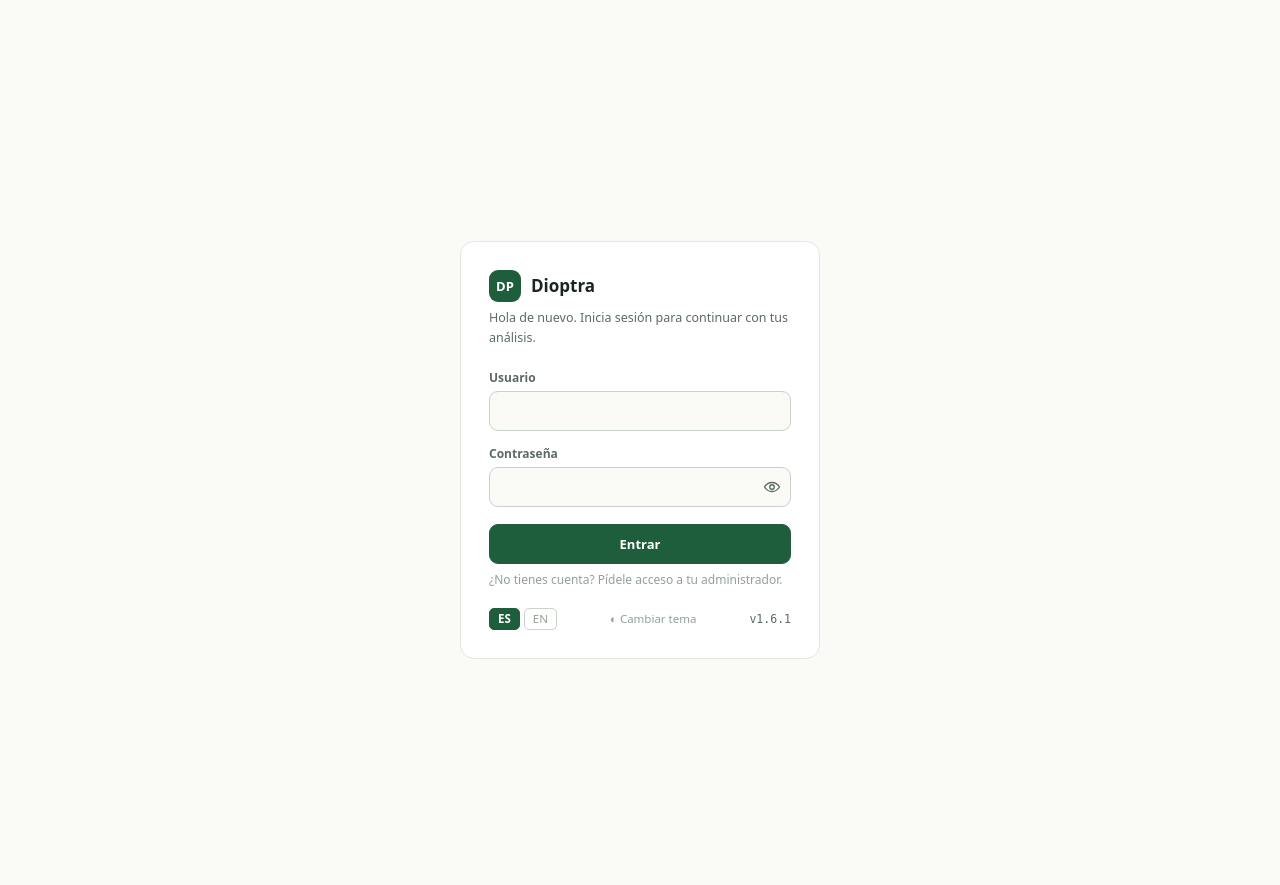
report screen › saves an edited section as the next version
Type "mmarin" into the field labelled "Usuario" at (640, 411), box [489,391,791,431]
Type "correct-horse-battery-staple" into the password field labelled "Contraseña" at (640, 487), box [489,467,791,507]
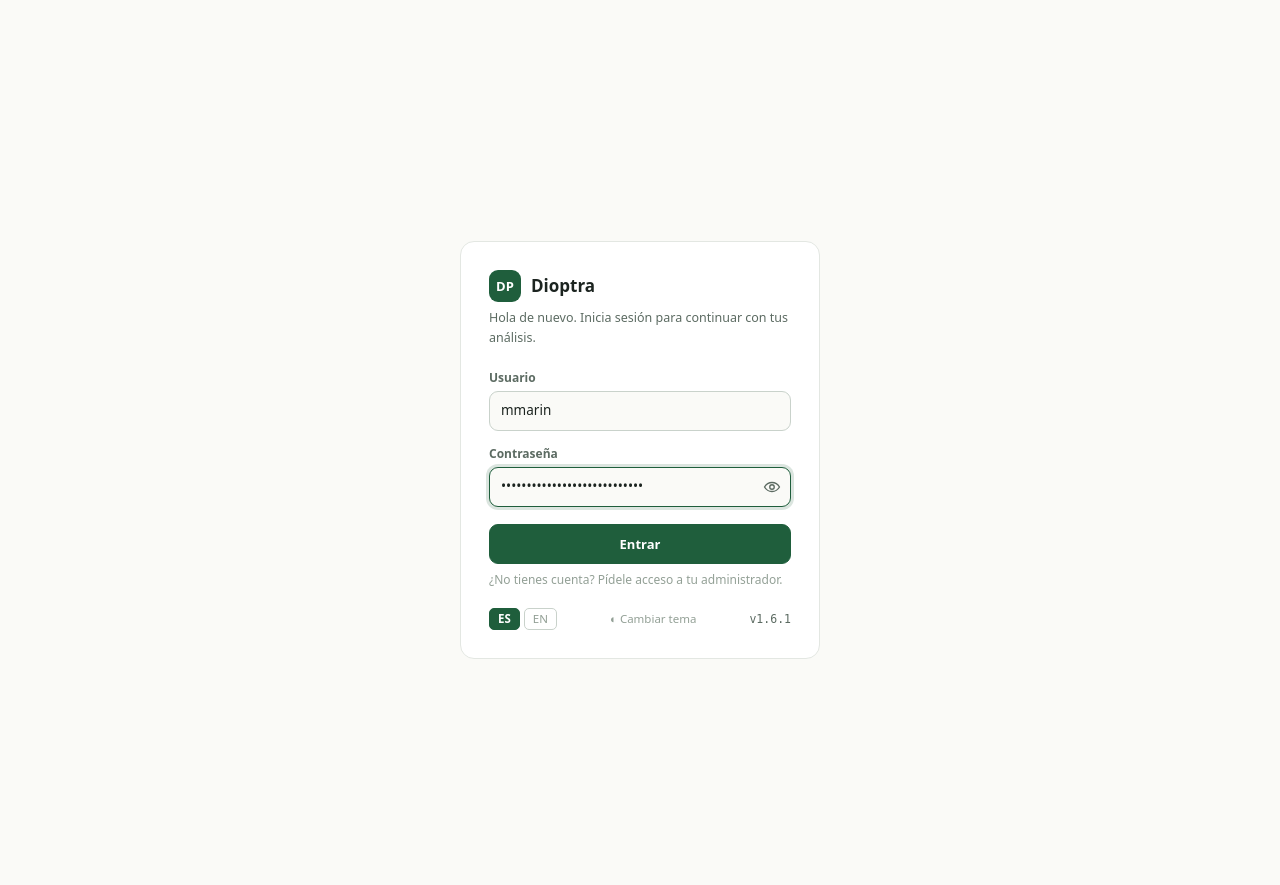
Click the button "Entrar" at (640, 544), box [489,524,791,564]
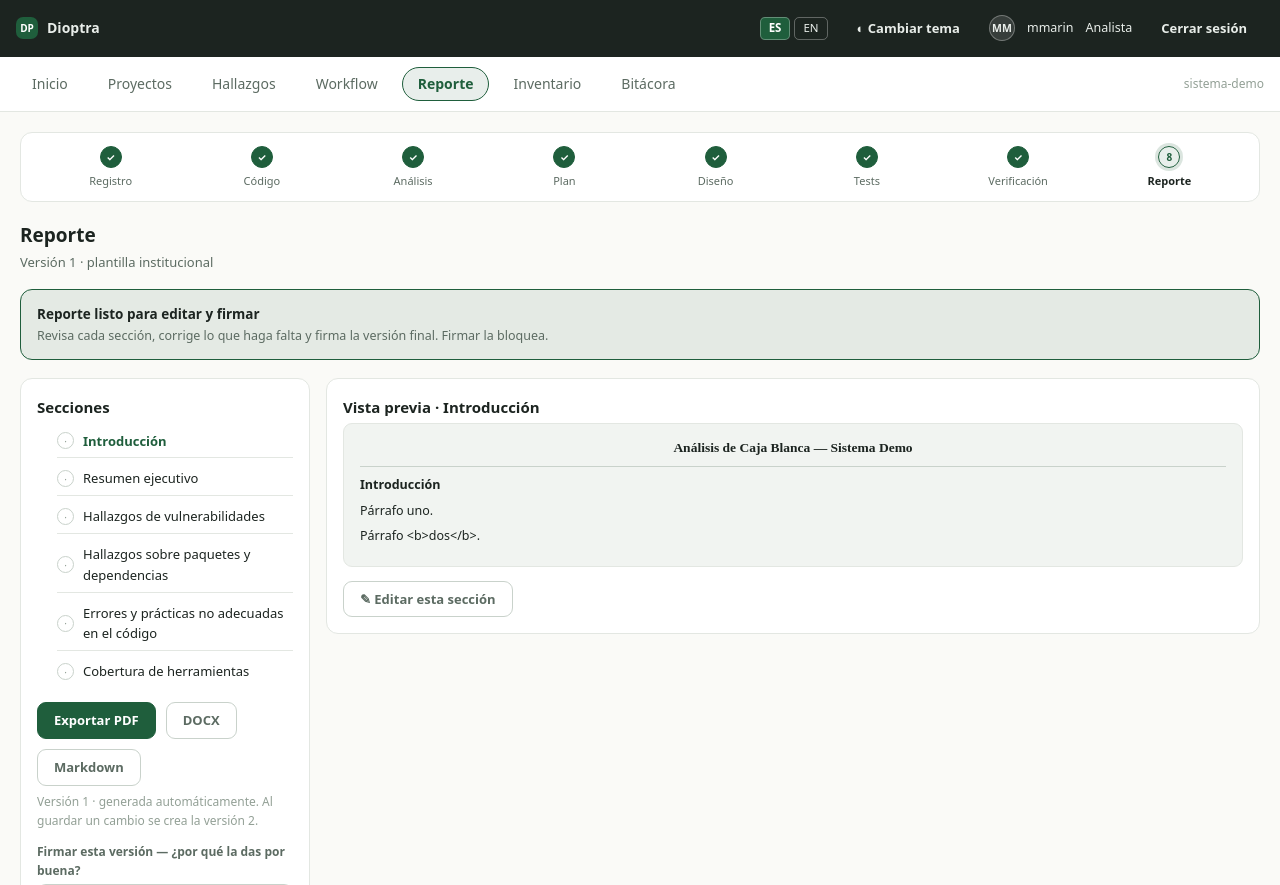
Click the button "✎ Editar esta sección" at (428, 599), box [343,581,513,617]
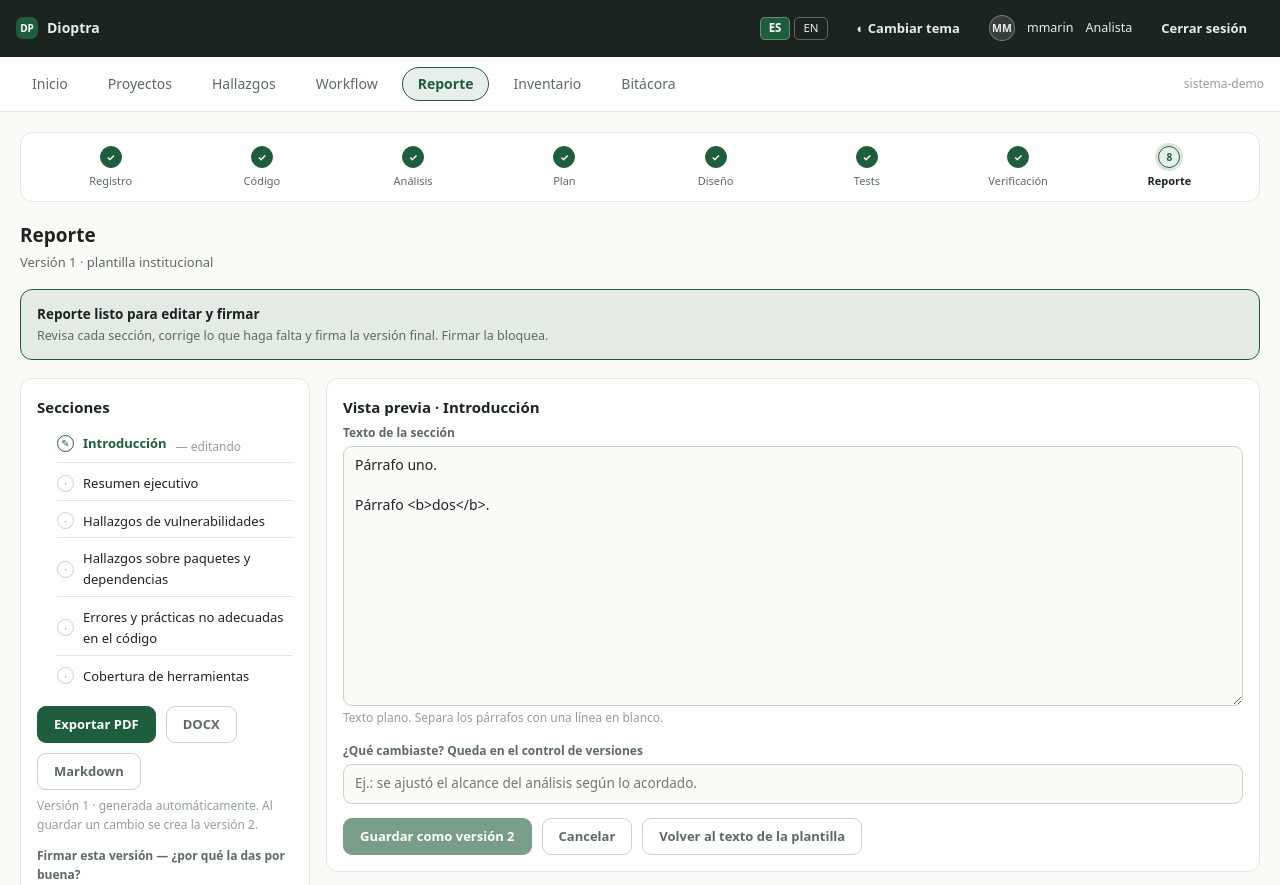
Replace the text in the text box labelled "Texto de la sección" with "Texto nuevo." at (793, 576), box [343,446,1243,706]
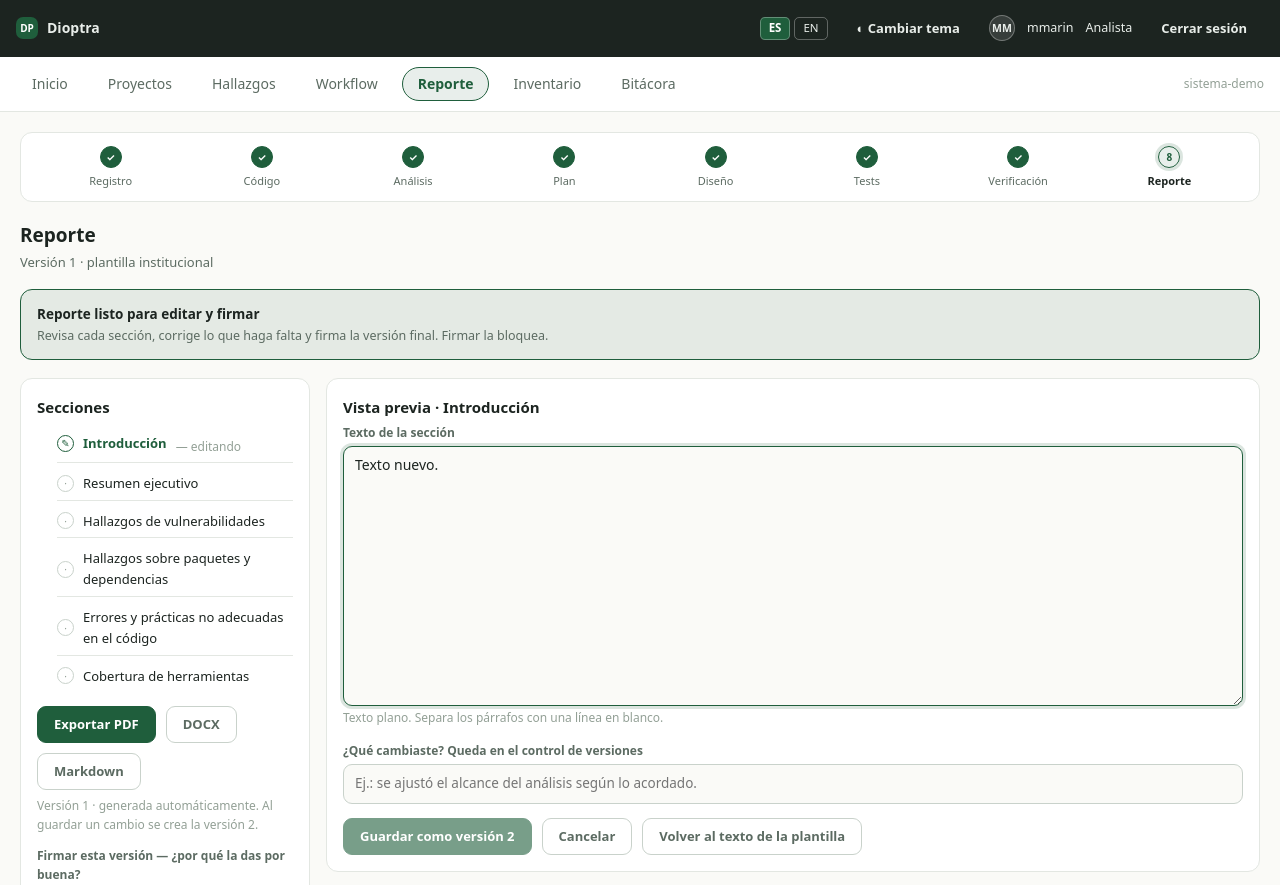
Type "Se reescribió la introducción." into the field labelled "¿Qué cambiaste? Queda en el control de versiones" at (793, 784), box [343,764,1243,804]
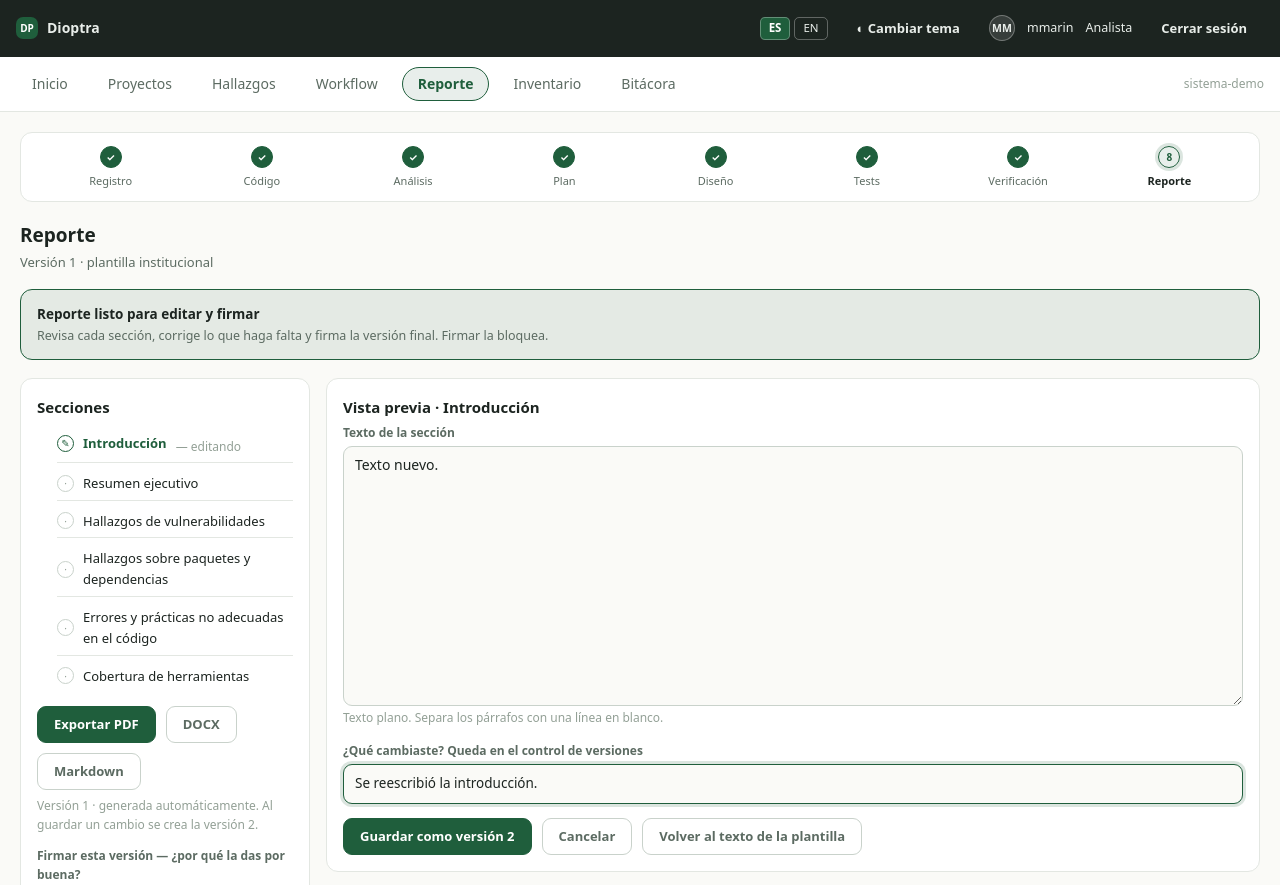
Click the button "Guardar como versión 2" at (437, 836), box [343,818,532,855]
(page scrolled)
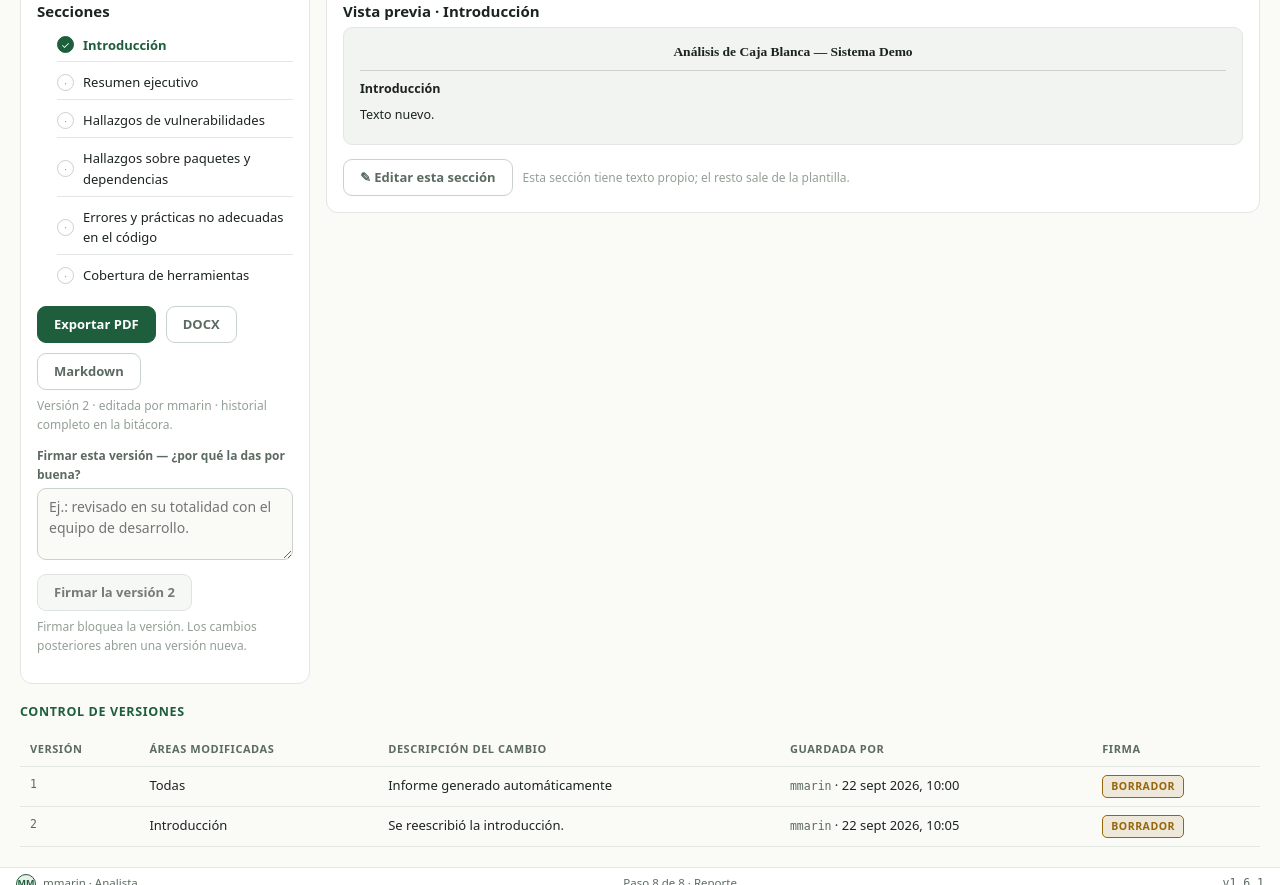
Expected: the text "Texto nuevo." is shown, [360,106,434,123]
Expected: the text "Se reescribió la introducción." is shown, [378,806,780,846]
Expected: the text "Borrador" is shown 2 times, [1102,775,1184,798]; [1102,815,1184,838]
